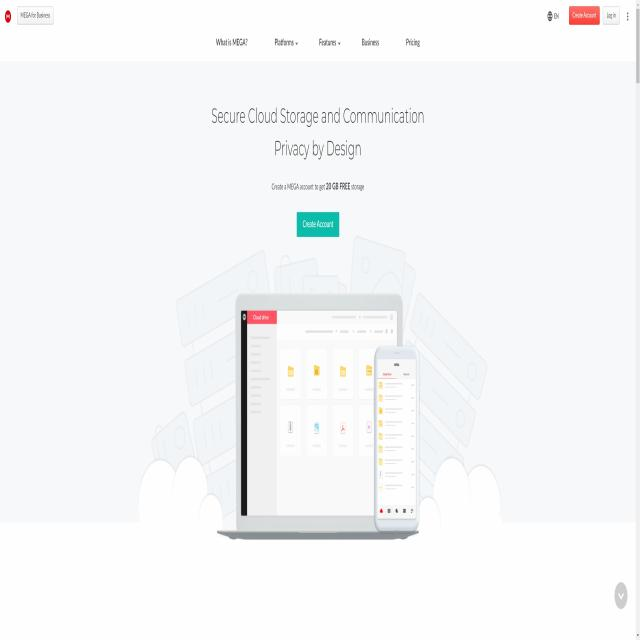menu-bar: (546, 5, 632, 27)
tab-bar: (213, 31, 427, 52)
